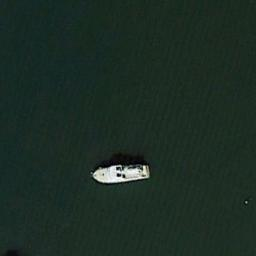boat: (90, 162, 152, 185)
